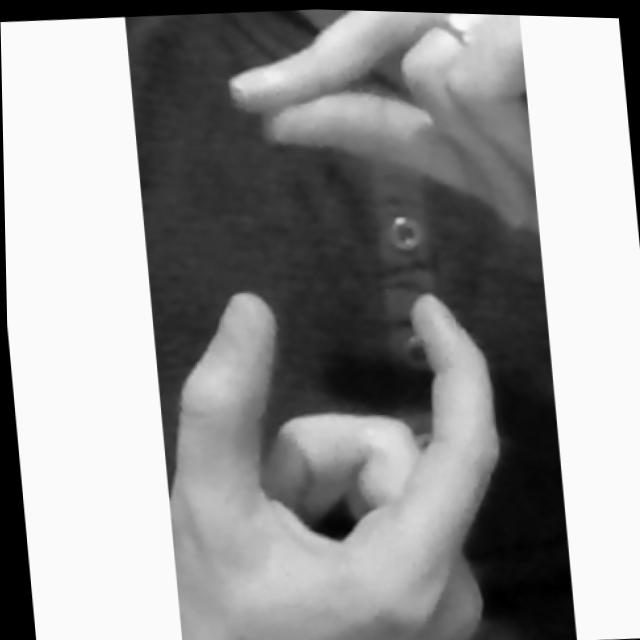U--: (124, 4, 577, 640)
